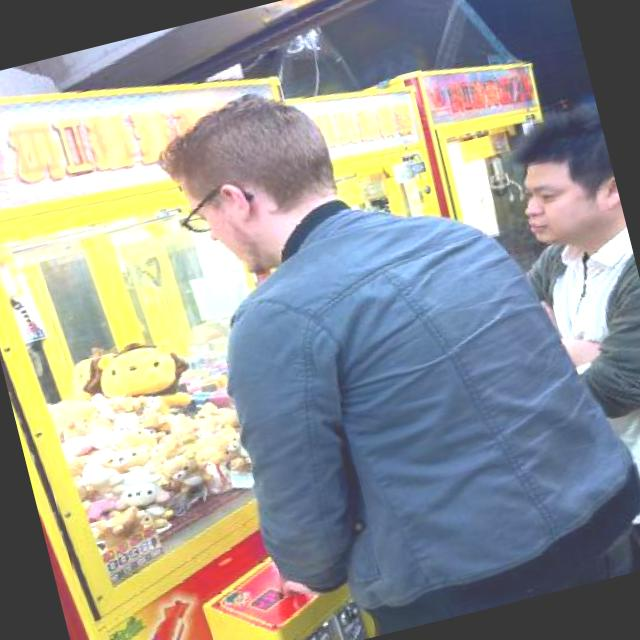Person: (152, 22, 640, 640), (481, 97, 640, 580)
